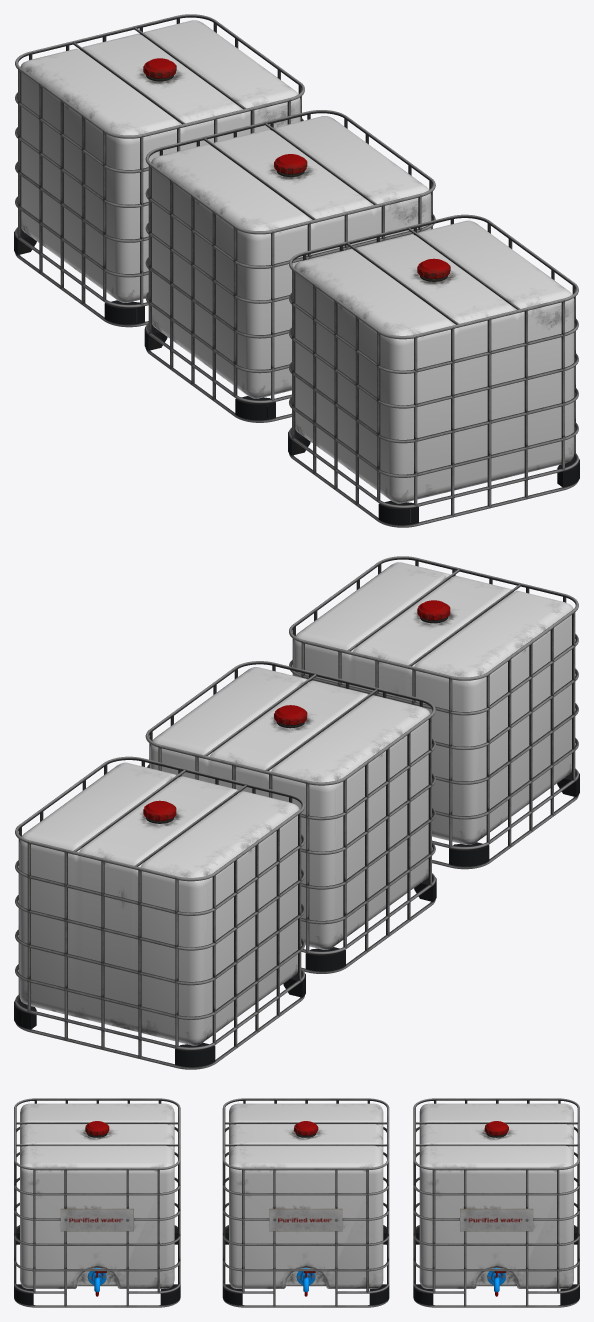
The model's file is plastic_water_container_-_4mb.glb.
3 views of the same model, one above another, from view 1: azimuth 30°, elevation 25°; view 2: azimuth 150°, elevation 25°; view 3: azimuth 270°, elevation 25° (orthographic). The views are drawn at different scales.
Visible parts, largest first — view 1: 01_2__0, 01__0, 01_1__0; view 2: 01_1__0, 01_2__0, 01__0; view 3: 01__0, 01_2__0, 01_1__0.
Part boxes in pixels (box(x1,y1,x2,y2)): 01_2__0: box(288, 214, 579, 527); 01__0: box(144, 110, 435, 422); 01_1__0: box(14, 14, 304, 327); 01_1__0: box(14, 756, 305, 1069); 01_2__0: box(289, 556, 579, 869); 01__0: box(145, 661, 436, 973); 01__0: box(222, 1098, 389, 1307); 01_2__0: box(14, 1098, 180, 1307); 01_1__0: box(413, 1098, 579, 1307).
Size of the model in its own units: 4.11 by 3.99 by 13.8.
1 material, 1 textured.
